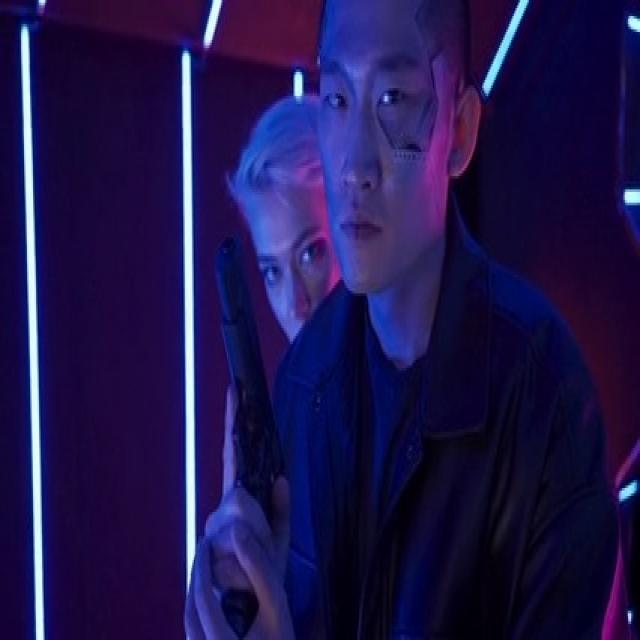Gun_Holder: (180, 230, 316, 640)
Jacket_Wearer: (266, 220, 629, 640)
Person: (270, 0, 626, 640), (216, 96, 342, 640)
